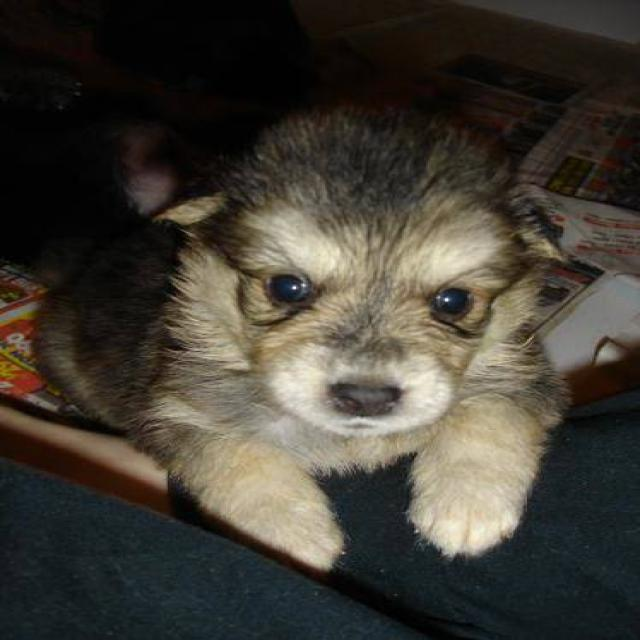dog: (29, 101, 573, 574)
